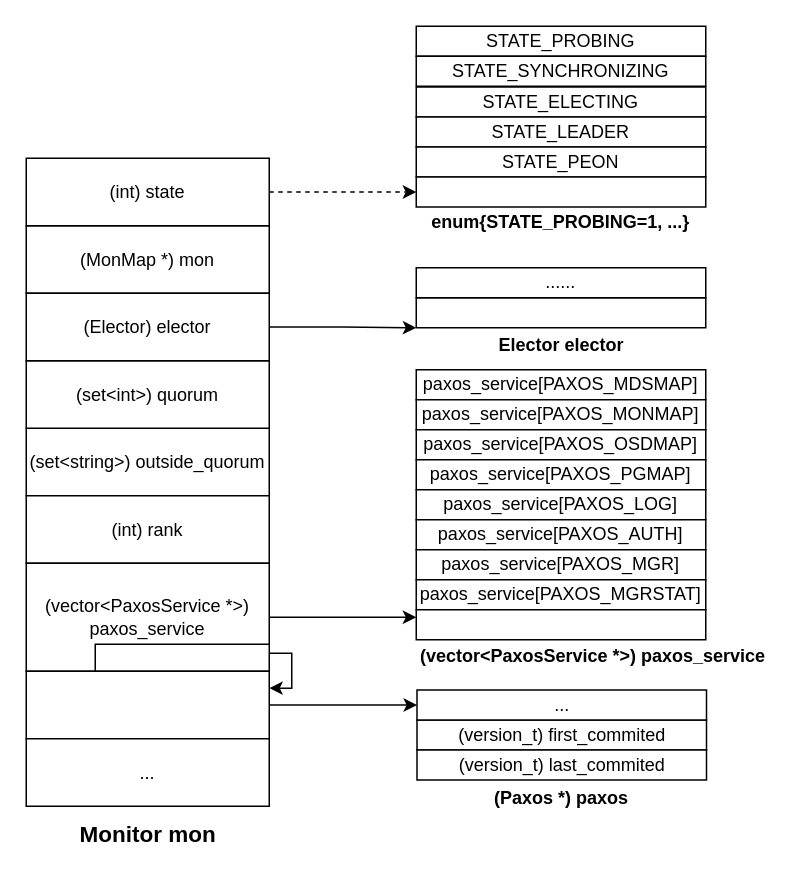
Image size: 795x875. Some labels were removed from this diagram. The shapes that lost their labels are listed below. From the top down, each one's box as (x1, y1, x2, y2) in pixels, then its label:
(415, 176, 706, 207): STATE_SHUTDOWN
(415, 296, 706, 328): (epoch_t) epoch
(415, 608, 706, 640): paxos_service[PAXOS_HEALTH]
(94, 643, 269, 671): paxos_service.paxos
(25, 670, 269, 739): (Paxos *)paxos
